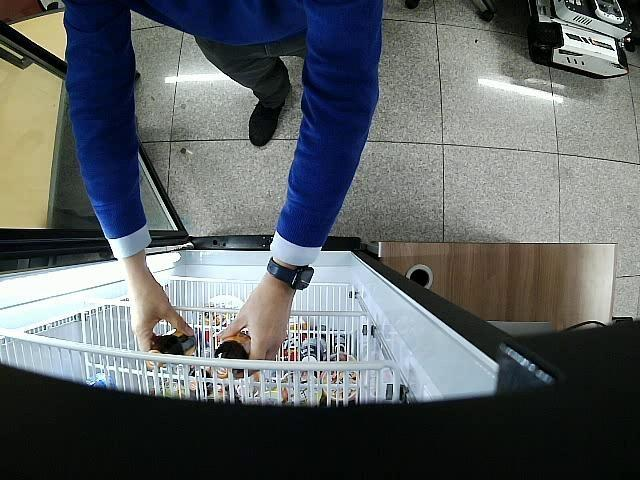17_vita500: (146, 332, 196, 368), (210, 332, 249, 378)
